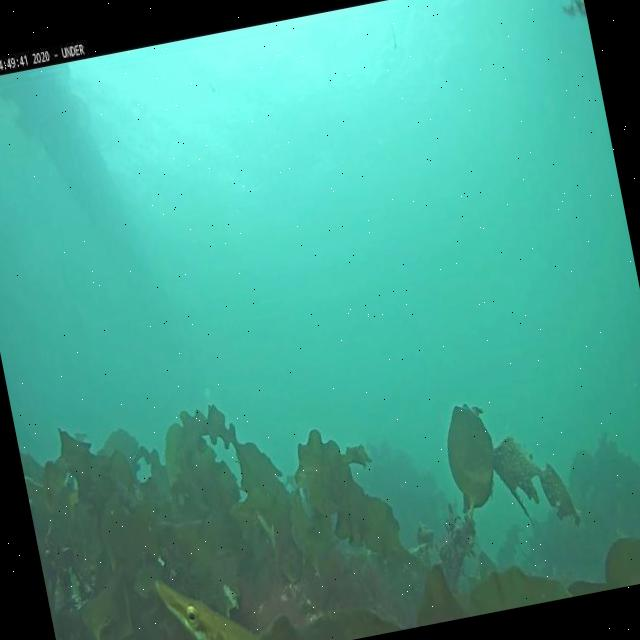fish: (153, 561, 270, 640)
